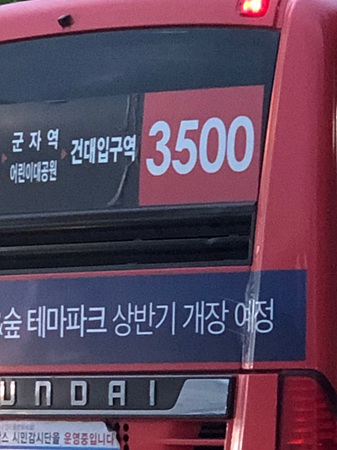bnum: (143, 112, 258, 177)
